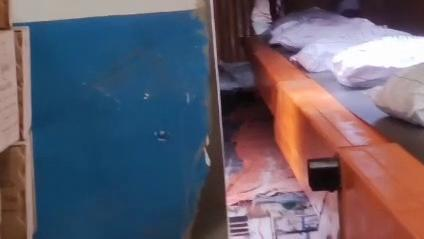box: (330, 35, 424, 87), (369, 64, 424, 126)
